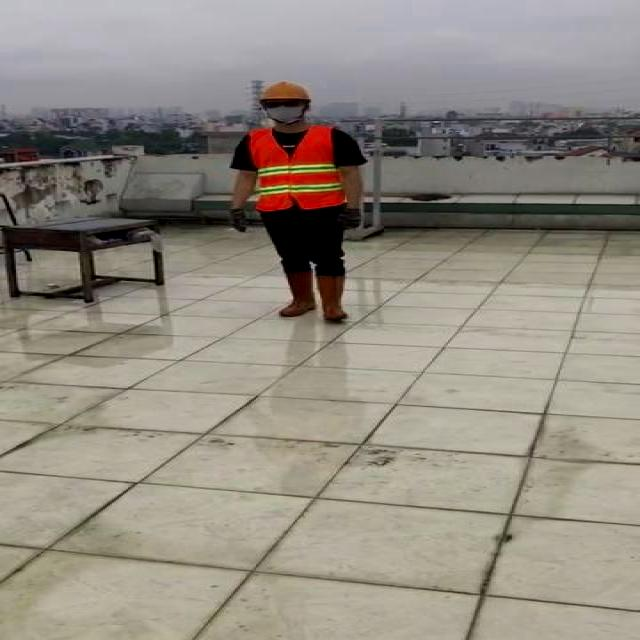boots: (274, 270, 314, 317), (318, 274, 348, 322)
face_mask: (263, 98, 306, 122)
glasses: (264, 98, 307, 110)
hand_glove: (334, 208, 364, 231), (231, 206, 254, 233)
head_helmet: (257, 80, 314, 102)
person: (225, 75, 371, 329)
vest: (249, 124, 341, 212)
